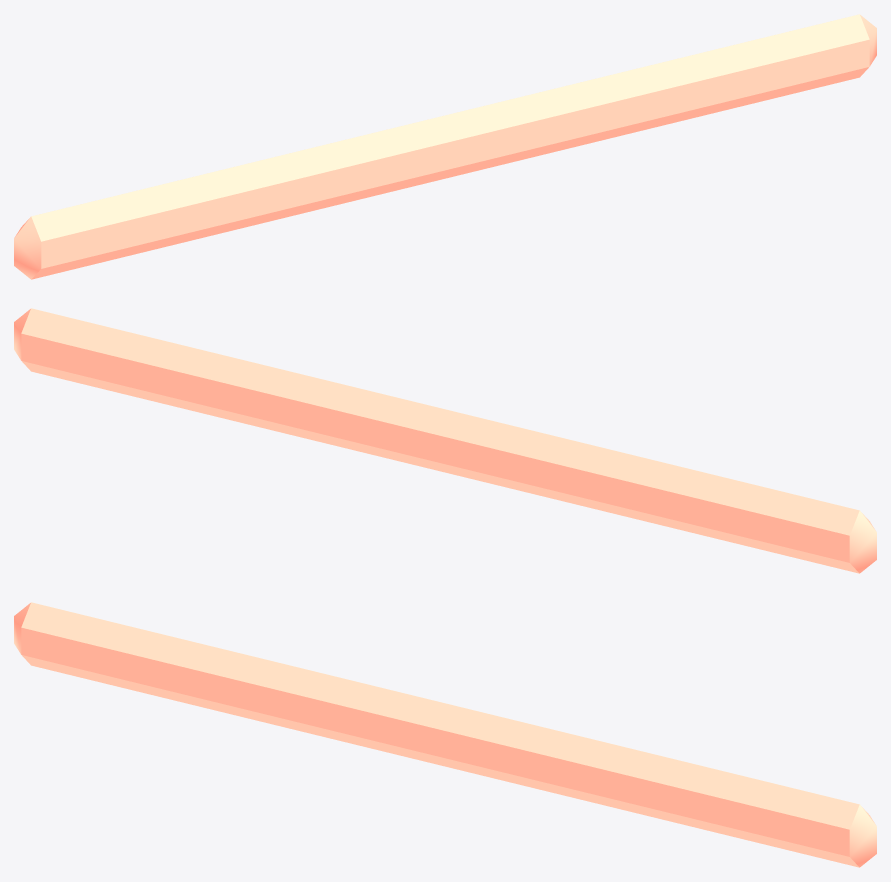
Rendered from kr_bar_red.glb.
3 renders of one model, top to bottom at view 1: azimuth 30°, elevation 25°; view 2: azimuth 150°, elevation 25°; view 3: azimuth 330°, elevation 25°, orthographic.
Visible parts, largest first — view 1: kr_bar_red_neonred; view 2: kr_bar_red_neonred; view 3: kr_bar_red_neonred.
Boxes of the visible parts, box(x1,y1,x2,y2) form: kr_bar_red_neonred: box(14, 14, 876, 279); kr_bar_red_neonred: box(14, 308, 876, 573); kr_bar_red_neonred: box(14, 602, 876, 867).
Bounding box in the file's own units: 1 × 0.07 × 0.04.
